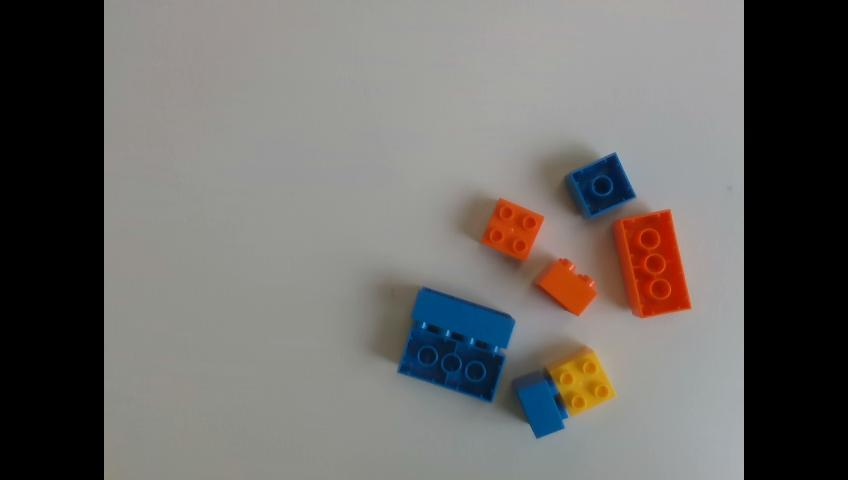2x2_blue: (565, 153, 639, 220), (513, 373, 569, 439)
2x2_orange: (531, 255, 601, 318), (482, 197, 546, 259)
2x2_yellow: (544, 345, 619, 419)
4x2_blue: (398, 330, 507, 405), (411, 285, 516, 353)
4x2_orange: (613, 209, 693, 320)
